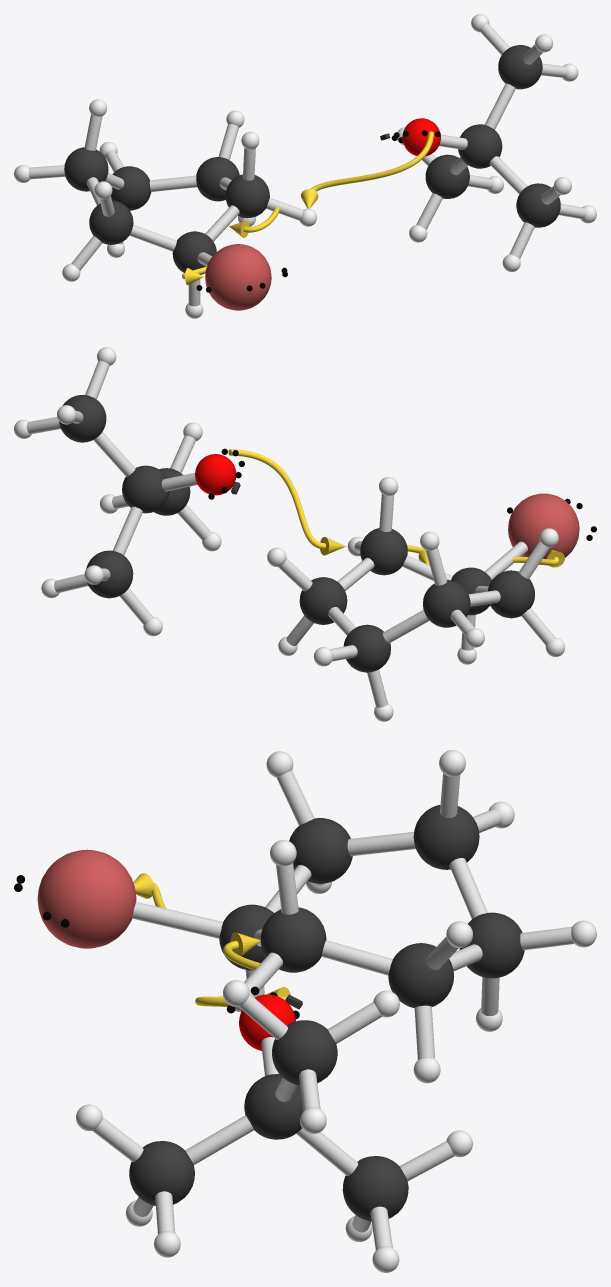
3 views of the same model, one above another, from view 1: azimuth 30°, elevation 25°; view 2: azimuth 150°, elevation 25°; view 3: azimuth 270°, elevation 25° (orthographic). The views are drawn at different scales.
Parts seen in each view (by area): view 1: Atom_M_2_Br, Atom_M_0_C, Atom_Tert-Butoxide_1_C, Atom_M_4_C, Atom_M_3_C, Atom_Tert-Butoxide_3_C, Atom_Tert-Butoxide_2_C, Atom_Tert-Butoxide_0_C, Atom_M_6_C, Atom_M_5_C, Atom_M_1_C, Atom_Tert-Butoxide_4_O (+14 smaller); view 2: Atom_M_2_Br, Atom_Tert-Butoxide_1_C, Atom_M_0_C, Atom_M_3_C, Atom_M_5_C, Atom_M_6_C, Atom_M_4_C, Atom_Tert-Butoxide_3_C, Atom_Tert-Butoxide_2_C, Atom_Tert-Butoxide_4_O, Arrow_Tert-ButoxideToM_54_Tail, Atom_M_1_C (+11 smaller); view 3: Atom_M_2_Br, Atom_M_0_C, Atom_Tert-Butoxide_2_C, Atom_Tert-Butoxide_0_C, Atom_M_4_C, Atom_Tert-Butoxide_3_C, Atom_M_6_C, Atom_M_3_C, Atom_M_5_C, Atom_Tert-Butoxide_1_C, Atom_M_1_C, Bond_M_1_2_0 (+20 smaller).
Boxes of the visible parts, x1,y1,x2,y2 form: Atom_M_2_Br: (205,244,271,310); Atom_M_0_C: (225,174,269,218); Atom_Tert-Butoxide_1_C: (458,124,502,168); Atom_M_4_C: (64,147,108,191); Atom_M_3_C: (89,200,133,244); Atom_Tert-Butoxide_3_C: (498,45,542,89); Atom_Tert-Butoxide_2_C: (425,154,469,198); Atom_Tert-Butoxide_0_C: (516,183,560,227); Atom_M_6_C: (196,157,239,201); Atom_M_5_C: (111,166,151,210); Atom_M_1_C: (172,231,216,274); Atom_Tert-Butoxide_4_O: (402,118,440,156); Atom_M_2_Br: (508,493,579,564); Atom_Tert-Butoxide_1_C: (122,465,169,513); Atom_M_0_C: (360,528,407,575); Atom_M_3_C: (488,570,534,618); Atom_M_5_C: (343,624,390,672); Atom_M_6_C: (299,577,347,624); Atom_M_4_C: (423,580,470,627); Atom_Tert-Butoxide_3_C: (59,395,106,442); Atom_Tert-Butoxide_2_C: (86,550,133,598); Atom_Tert-Butoxide_4_O: (195,454,236,495); Arrow_Tert-ButoxideToM_54_Tail: (228,449,325,549); Atom_M_1_C: (451,567,491,615); Atom_M_2_Br: (37,849,136,948); Atom_M_0_C: (260,907,326,972); Atom_Tert-Butoxide_2_C: (342,1156,408,1221); Atom_Tert-Butoxide_0_C: (129,1141,194,1205); Atom_M_4_C: (413,805,479,869); Atom_Tert-Butoxide_3_C: (272,1020,337,1085); Atom_M_6_C: (388,943,453,1007); Atom_M_3_C: (289,818,352,883); Atom_M_5_C: (459,912,524,978); Atom_Tert-Butoxide_1_C: (244,1074,303,1139); Atom_M_1_C: (219,904,273,970); Bond_M_1_2_0: (132,901,222,938).
Size of the model in its own units: 10.11 by 4.08 by 6.72.
